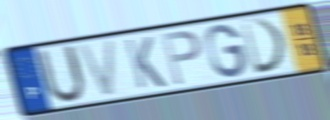D: (238, 16, 289, 77)
G: (203, 23, 249, 80)
K: (122, 35, 169, 91)
P: (159, 28, 203, 87)
U: (34, 43, 88, 106)
V: (75, 37, 118, 100)
